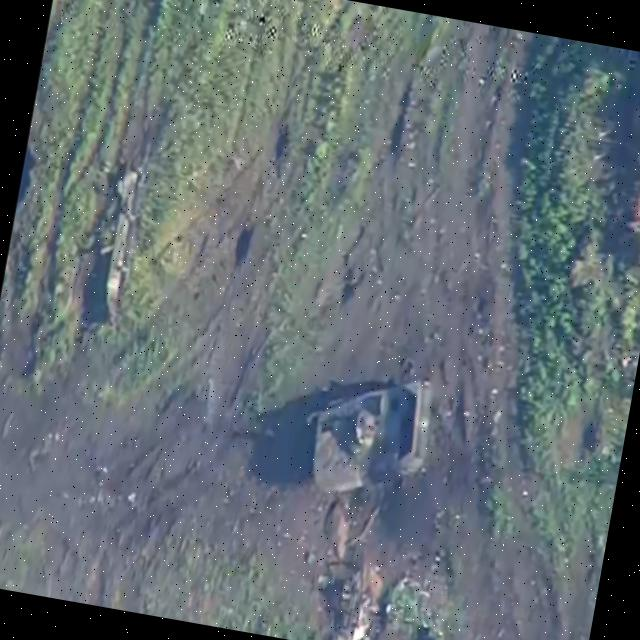AIFV: (305, 360, 442, 516)
